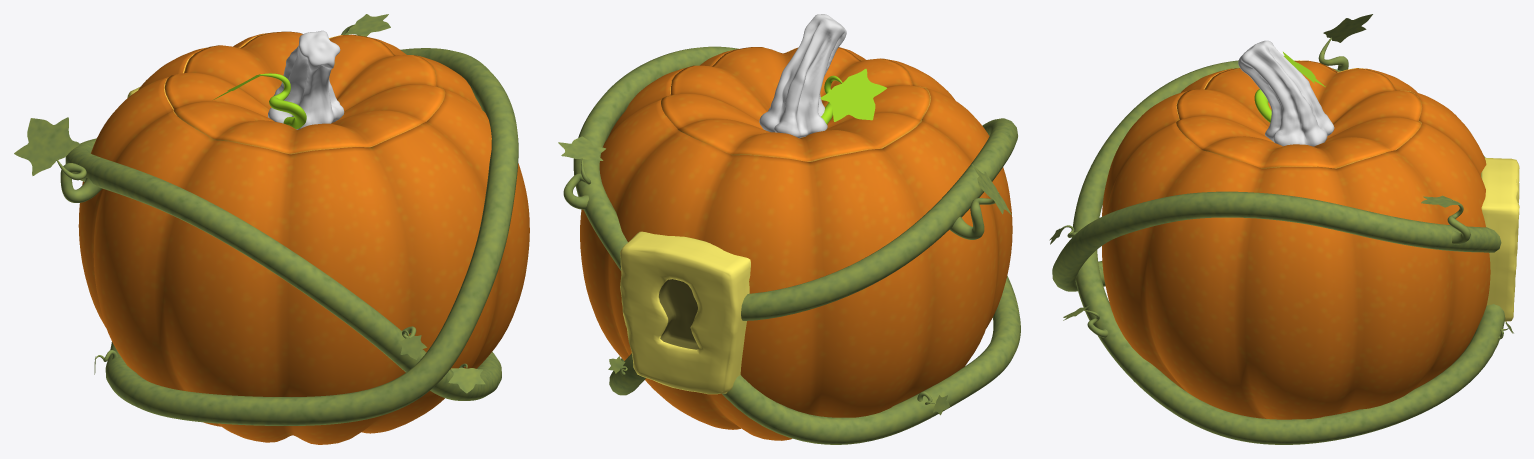
The model's file is pumpkinforGame.fbx.
3 views of the same model, side by side, from view 1: azimuth 30°, elevation 25°; view 2: azimuth 150°, elevation 25°; view 3: azimuth 270°, elevation 25° (orthographic). The views are drawn at different scales.
Parts seen in each view (by area): view 1: Circle.007, Plane.006, Circle.004; view 2: Circle.007, Plane.006, Circle.004, Cube; view 3: Circle.007, Plane.006, Circle.004, Cube.
Part boxes in pixels (x1,y1,x2,y2): Circle.007: (78,32,529,444); Plane.006: (14,14,518,425); Circle.004: (164,30,445,154); Circle.007: (580,47,1012,440); Plane.006: (558,46,1020,444); Circle.004: (661,14,930,161); Cube: (620,231,750,394); Circle.007: (1102,60,1490,419); Plane.006: (1049,14,1513,444); Circle.004: (1176,40,1422,168); Cube: (1481,157,1519,321).
Bounding box in the file's own units: 215 × 178 × 218.
